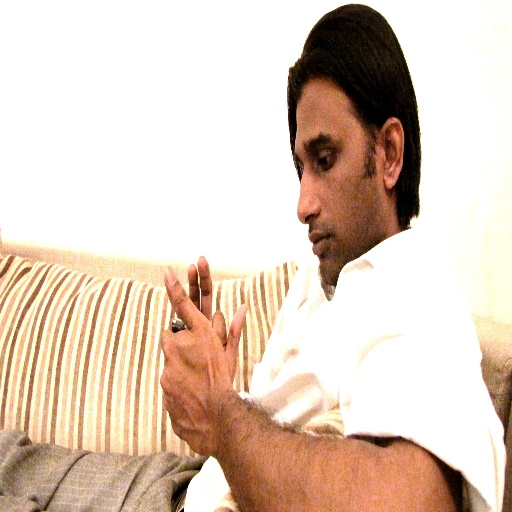hand: (158, 263, 231, 455), (188, 251, 248, 386)
